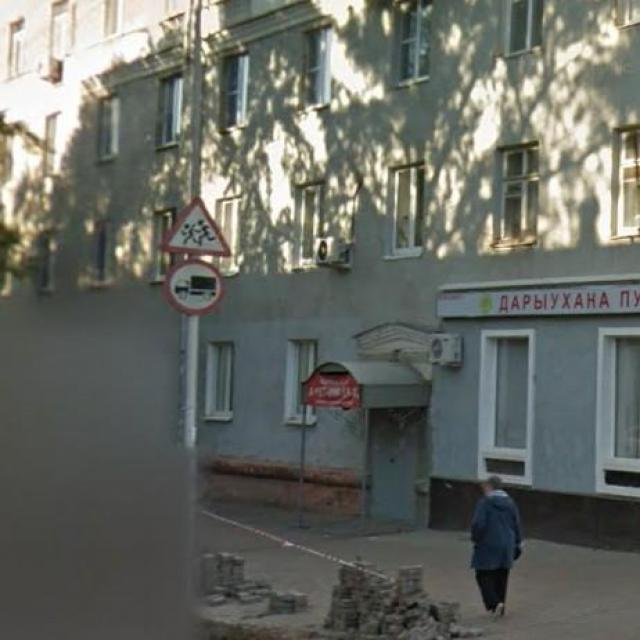Dzieci: (154, 188, 241, 262)
